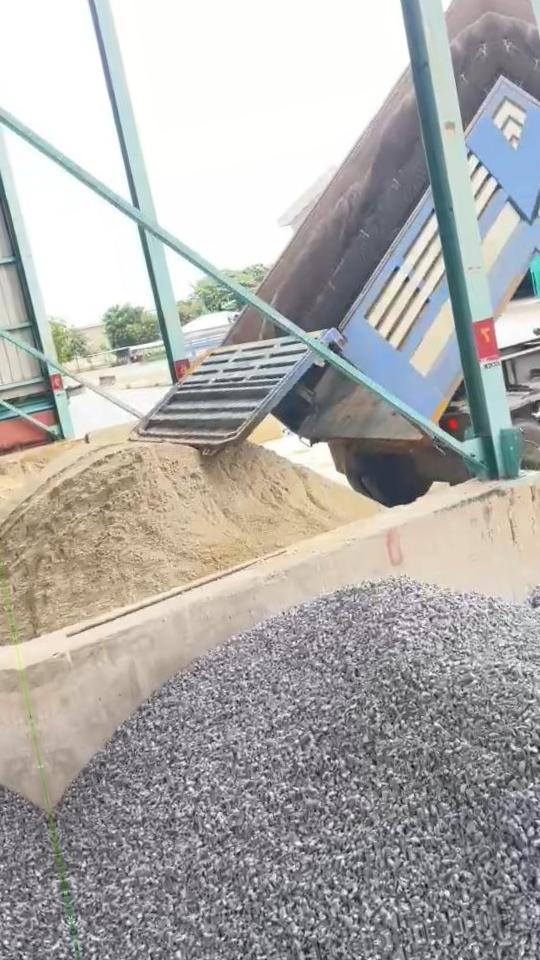gravel: (55, 580, 540, 960), (528, 584, 540, 616)
sand: (0, 442, 380, 639), (0, 441, 82, 508)
